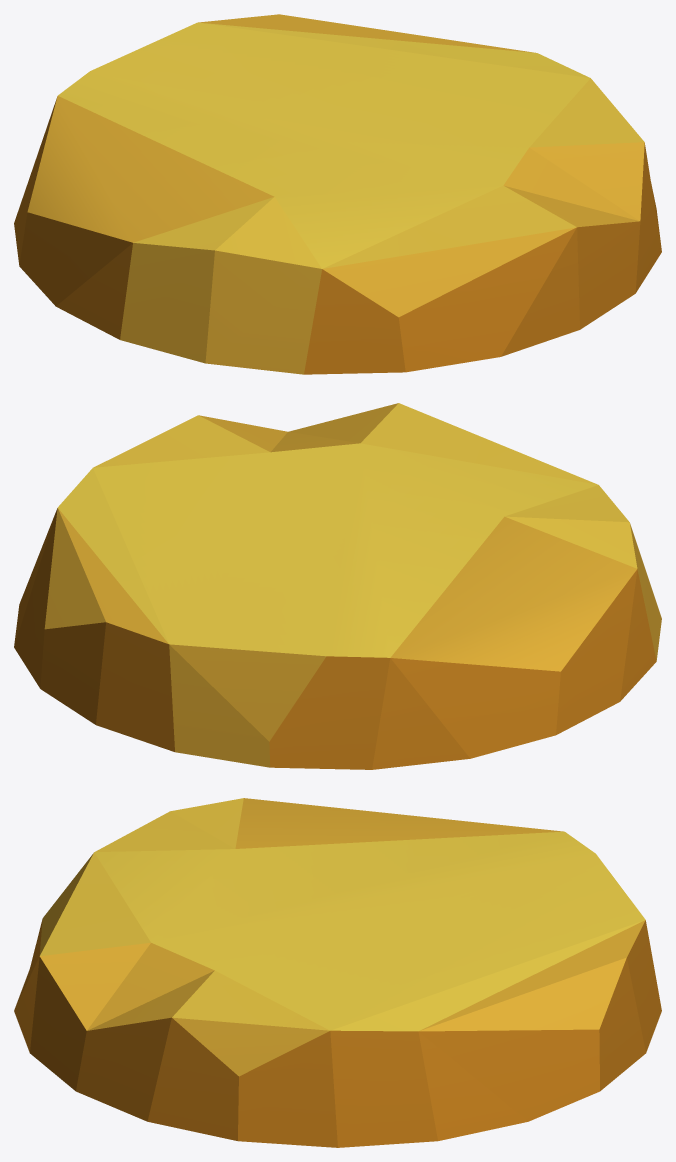
Rendered from button_yellow2.fbx.
The picture shows the model from 3 angles, top to bottom: view 1: azimuth 30°, elevation 25°; view 2: azimuth 150°, elevation 25°; view 3: azimuth 270°, elevation 25°; orthographic projection.
Visible parts, largest first — view 1: button_yellow2; view 2: button_yellow2; view 3: button_yellow2.
Boxes of the visible parts, x1=… form: button_yellow2: x1=14, y1=14, x2=661, y2=374; button_yellow2: x1=14, y1=403, x2=661, y2=769; button_yellow2: x1=14, y1=798, x2=661, y2=1147.
Size of the model in its own units: 18.38 by 3.32 by 18.38.
